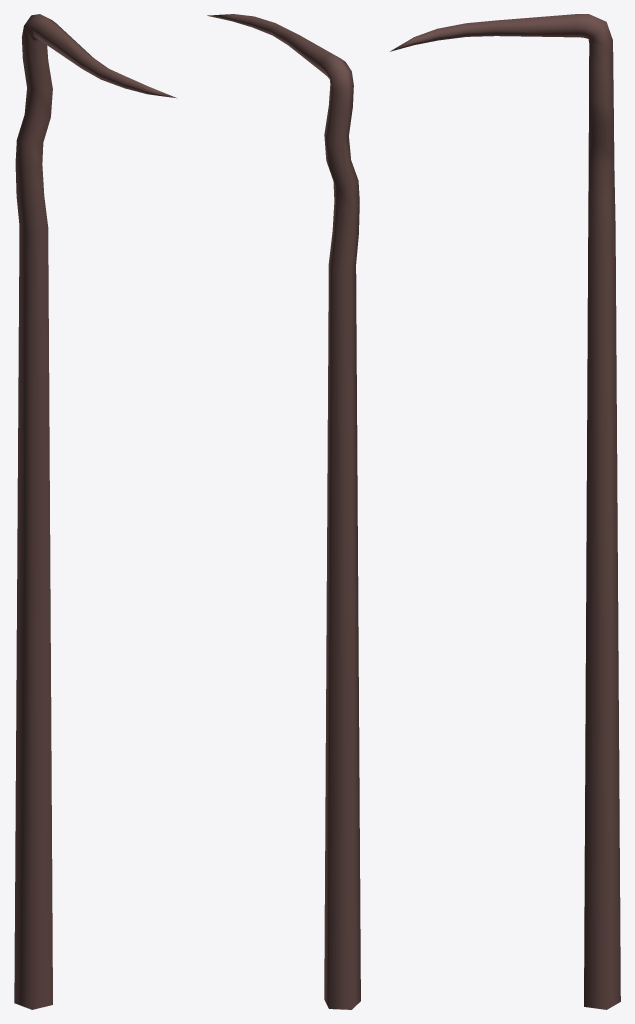
The model's file is root_hole_003.fbx.
The picture shows the model from 3 angles, left to right: view 1: azimuth 30°, elevation 25°; view 2: azimuth 210°, elevation 25°; view 3: azimuth 270°, elevation 25°; orthographic projection. The views are drawn at different scales.
Parts seen in each view (by area): view 1: root.hole.003; view 2: root.hole.003; view 3: root.hole.003.
Boxes of the visible parts, x1,y1,x2,y2 form: root.hole.003: [14, 14, 176, 1009]; root.hole.003: [207, 14, 360, 1009]; root.hole.003: [390, 14, 620, 1009].
Bounding box in the file's own units: 116 × 2038 × 433.
